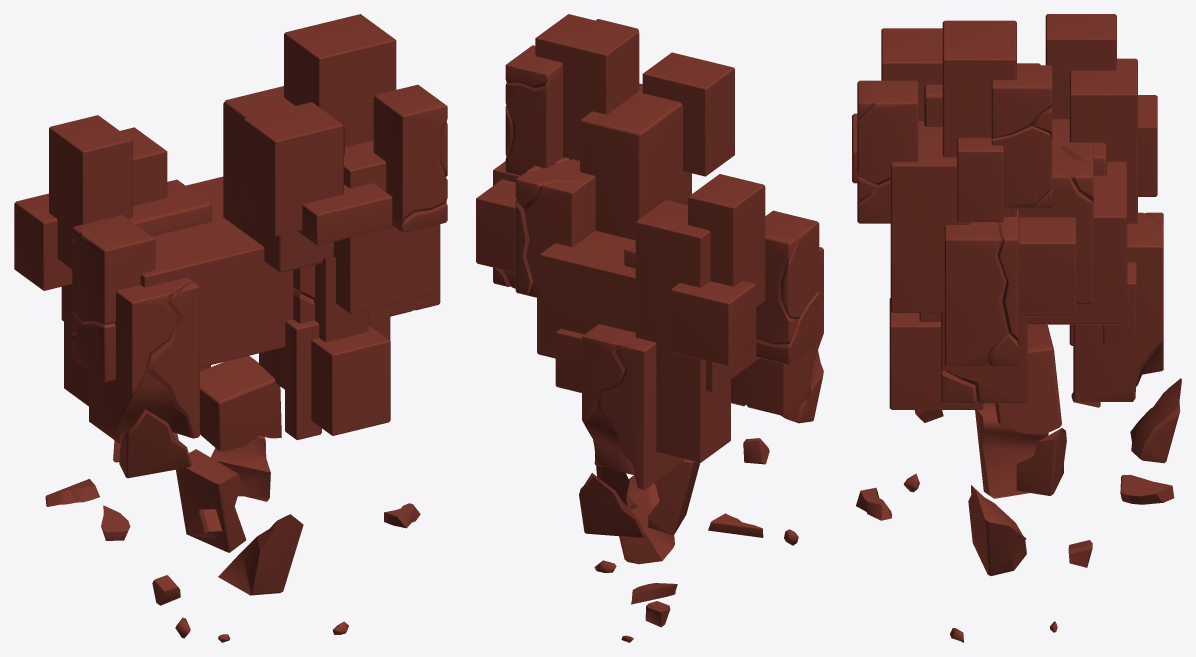
Rendered from ruins_002.fbx.
3 renders of one model, left to right at view 1: azimuth 30°, elevation 25°; view 2: azimuth 150°, elevation 25°; view 3: azimuth 270°, elevation 25°, orthographic. The views are drawn at different scales.
Visible parts, largest first — view 1: ruins_002; view 2: ruins_002; view 3: ruins_002.
Part boxes in pixels (left/top/right/bottom): ruins_002: left=14, top=14, right=447, bottom=642; ruins_002: left=476, top=14, right=823, bottom=642; ruins_002: left=852, top=14, right=1181, bottom=642.
Bounding box in the file's own units: 3357 × 2839 × 5999.
